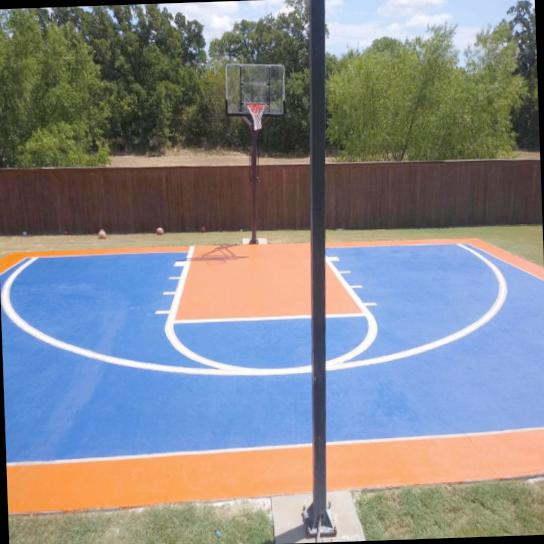basketball-hoop: (245, 102, 268, 132)
